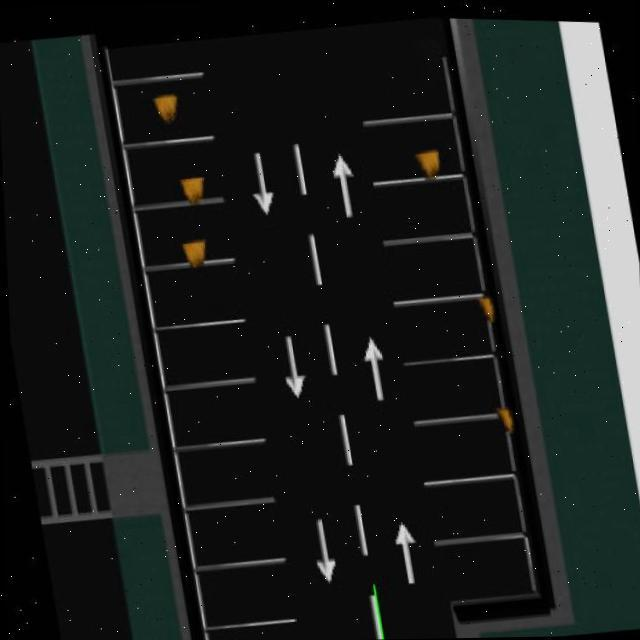garbage-trXY: (412, 148, 443, 180), (179, 241, 209, 269), (153, 95, 181, 121), (181, 175, 206, 201), (477, 295, 499, 319), (496, 405, 515, 432)
